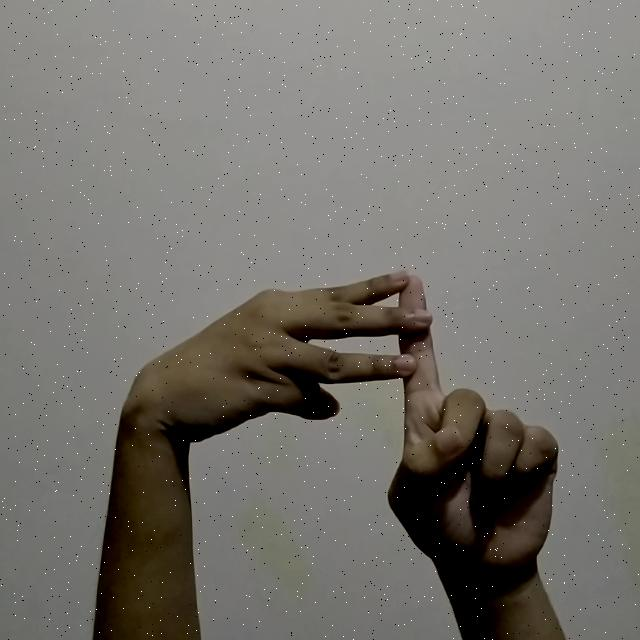B: (116, 265, 564, 588)
